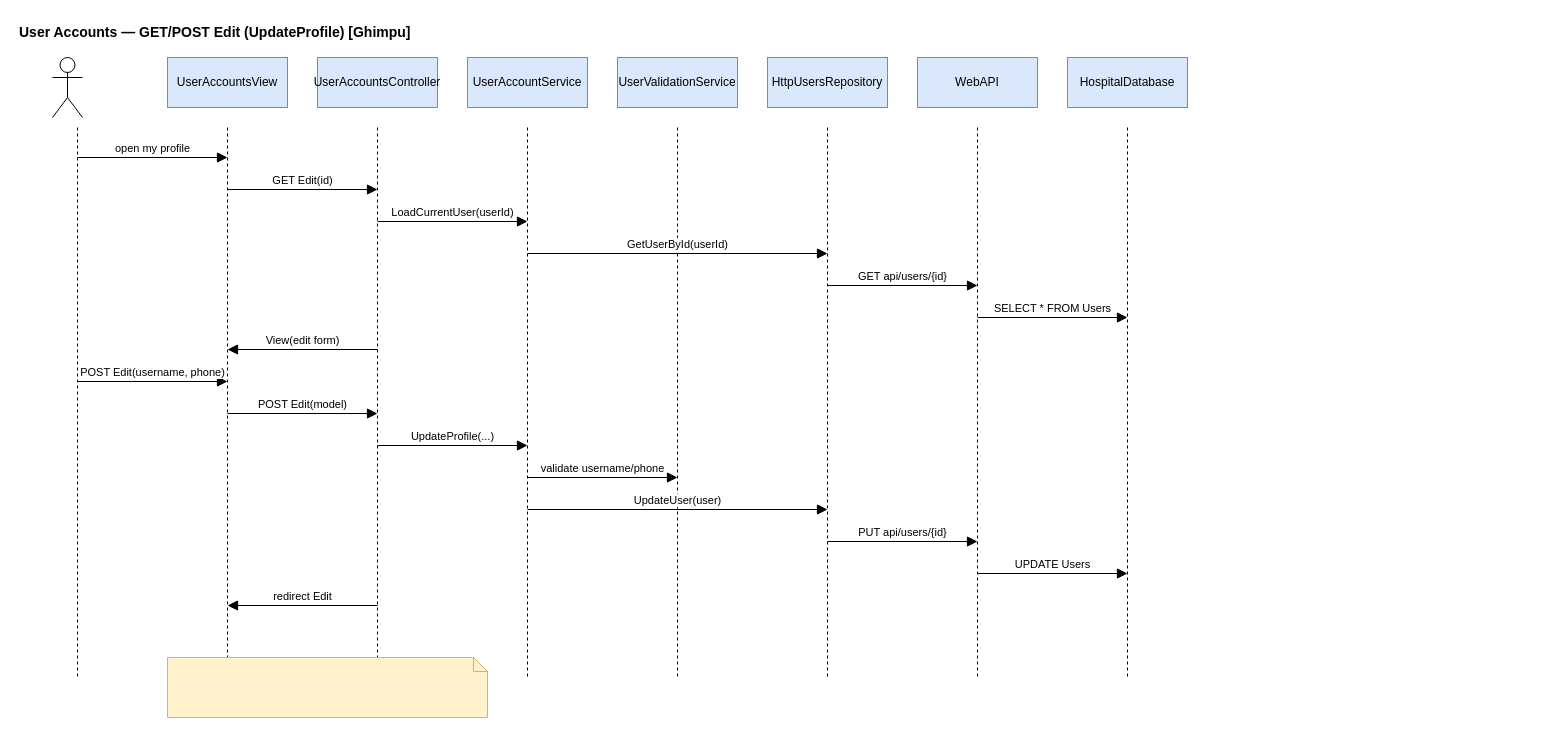
Image size: 1554x735. Some labels were removed from this diagram. The box of each missing label's shape, as (x1, y1, x2, y2) in pixels:
Email is read-only; only username/phone change: (166, 656, 488, 718)
User: (52, 56, 82, 118)
